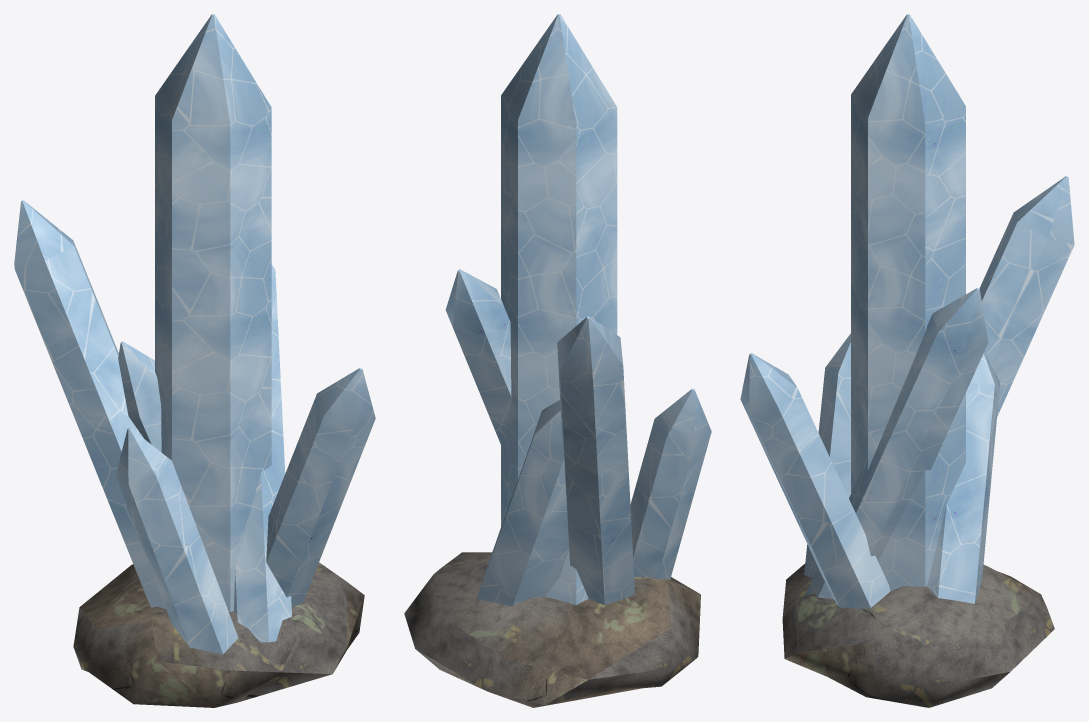
Rendered from ENV_Snow_IceSpike.fbx.
3 views of the same model, side by side, from view 1: azimuth 30°, elevation 25°; view 2: azimuth 150°, elevation 25°; view 3: azimuth 270°, elevation 25° (orthographic).
Parts seen in each view (by area): view 1: ENV_Snow_IceSpike; view 2: ENV_Snow_IceSpike; view 3: ENV_Snow_IceSpike.
Part boxes in pixels (x1,y1,x2,y2): ENV_Snow_IceSpike: [14, 14, 375, 707]; ENV_Snow_IceSpike: [404, 14, 711, 707]; ENV_Snow_IceSpike: [740, 14, 1074, 707].
Bounding box in the file's own units: 0.7348 × 1.7 × 0.8088.
